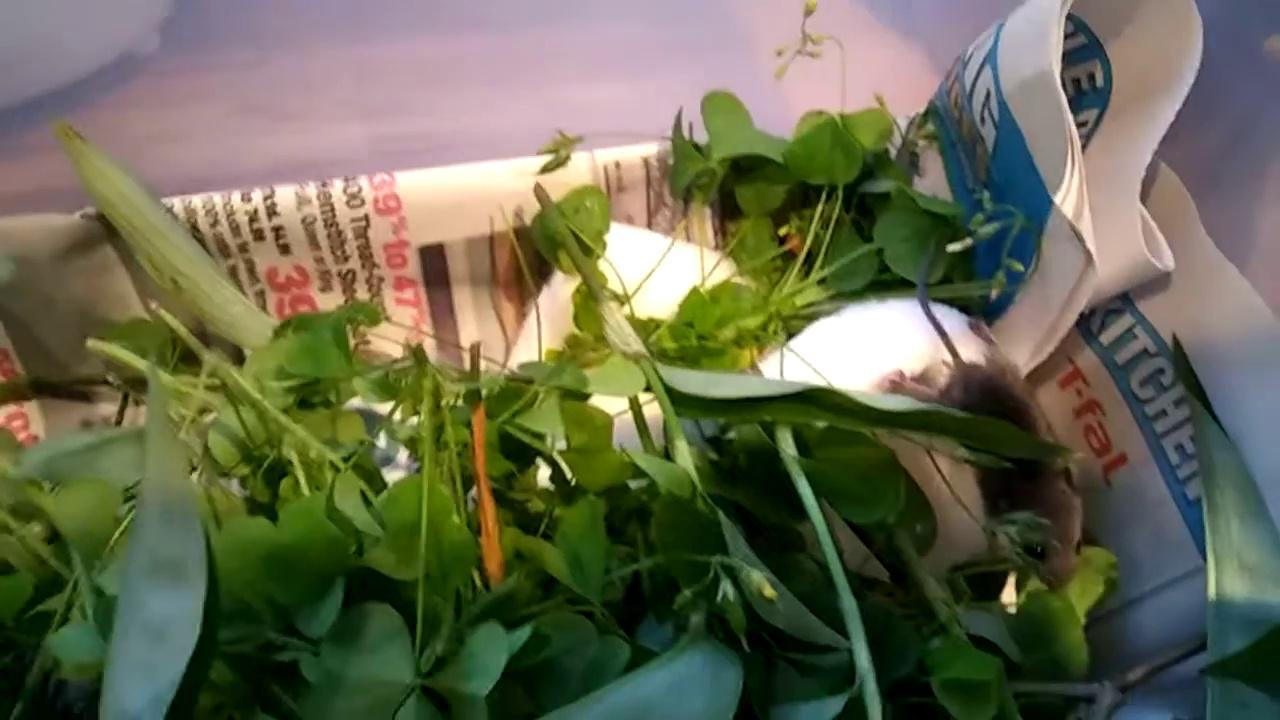rat: (898, 242, 1084, 590)
